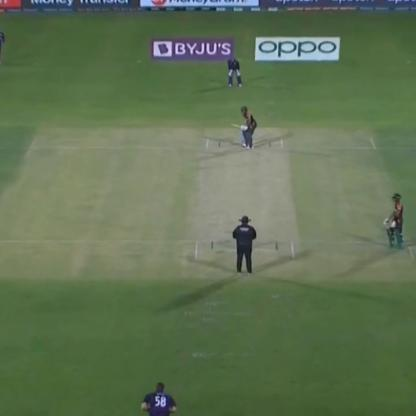bat: (219, 122, 247, 130)
pitch: (190, 137, 298, 269)
